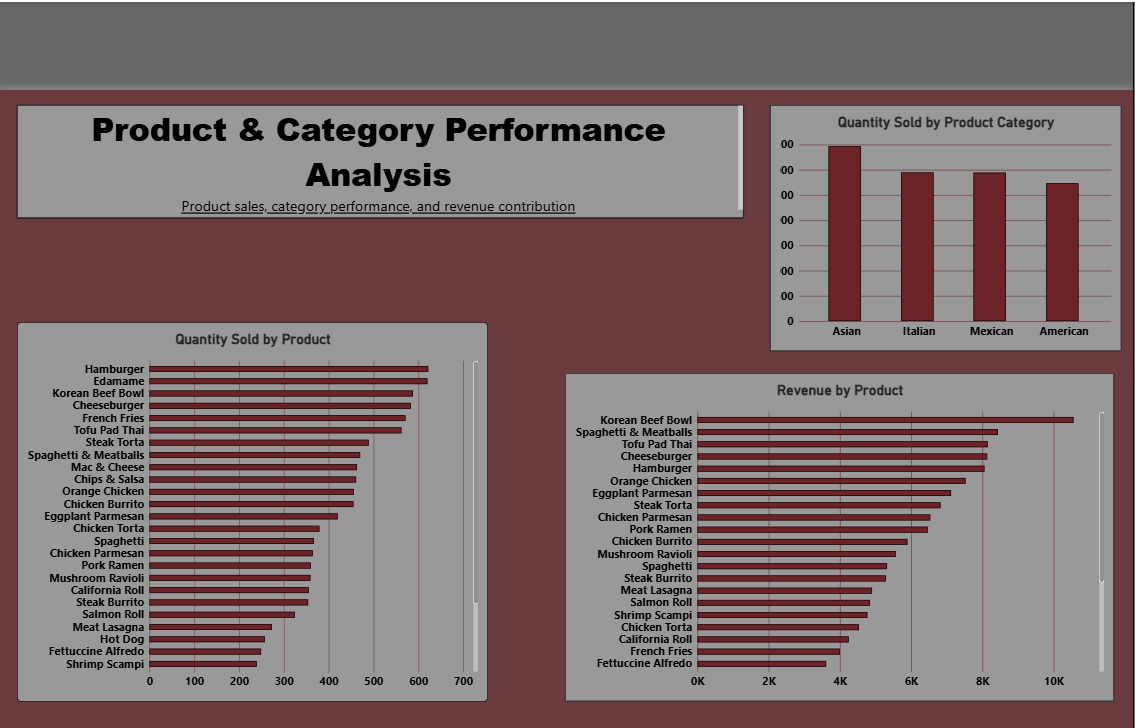

What the dashboard file says about the page in this screenshot:
{"tool":"powerbi","page":{"name":"Product & Category Analysis","canvas":[1920,1080],"ordinal":1},"visuals":[{"type":"lineClusteredColumnComboChart","title":" Quantity Sold by Product Category","fields":{"Category":["menu_items.category"],"Y":["order_details.Quantity Sold"]},"box":[1305.8,25,593.7,416.3],"z":1},{"type":"clusteredBarChart","title":"Revenue by Product","fields":{"Category":["menu_items.item_name"],"Y":["order_details.Total Revenue"]},"box":[960,477.7,928.2,555.1],"z":2},{"type":"clusteredBarChart","title":"Quantity Sold by Product","fields":{"Category":["menu_items.item_name"],"Y":["order_details.Quantity Sold"]},"box":[34.1,391.3,796.2,641.5],"z":3},{"type":"textbox","box":[34.1,25,1228.4,191.1],"z":4}]}

Visuals, with their boxes on the page's 1920x1080 design canvas (x1, y1, x2, y2). These are canvas units, not pixel positions in the 1135x728 screenshot, which may show the page scaled, cropped or inside an application window:
" Quantity Sold by Product Category" lineClusteredColumnComboChart: box(1306, 25, 1900, 441)
"Revenue by Product" clusteredBarChart: box(960, 478, 1888, 1033)
"Quantity Sold by Product" clusteredBarChart: box(34, 391, 830, 1033)
textbox: box(34, 25, 1262, 216)
